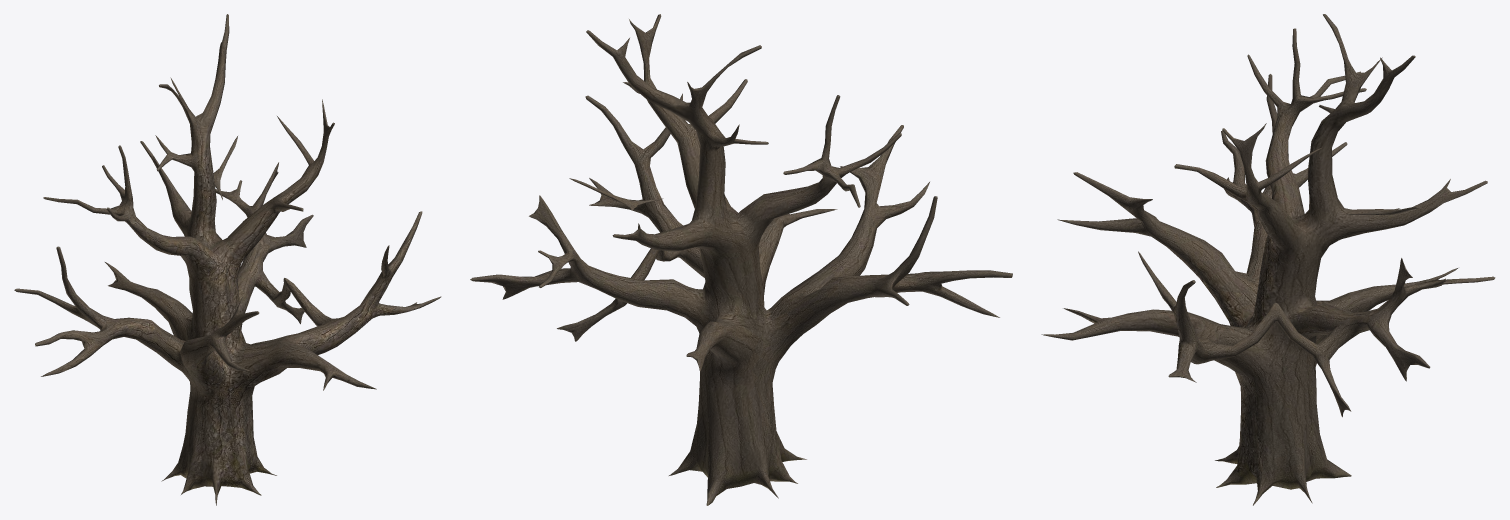
The picture shows the model from 3 angles, left to right: view 1: azimuth 30°, elevation 25°; view 2: azimuth 150°, elevation 25°; view 3: azimuth 270°, elevation 25°; orthographic projection. The views are drawn at different scales.
Visible parts, largest first — view 1: mesh_node; view 2: mesh_node; view 3: mesh_node.
Boxes of the visible parts, x1,y1,x2,y2 form: mesh_node: [14, 14, 441, 505]; mesh_node: [470, 14, 1012, 505]; mesh_node: [1041, 14, 1495, 505].
Size of the model in its own units: 1.96 by 2 by 1.77.
Materials: 1 (1 with a texture image).
